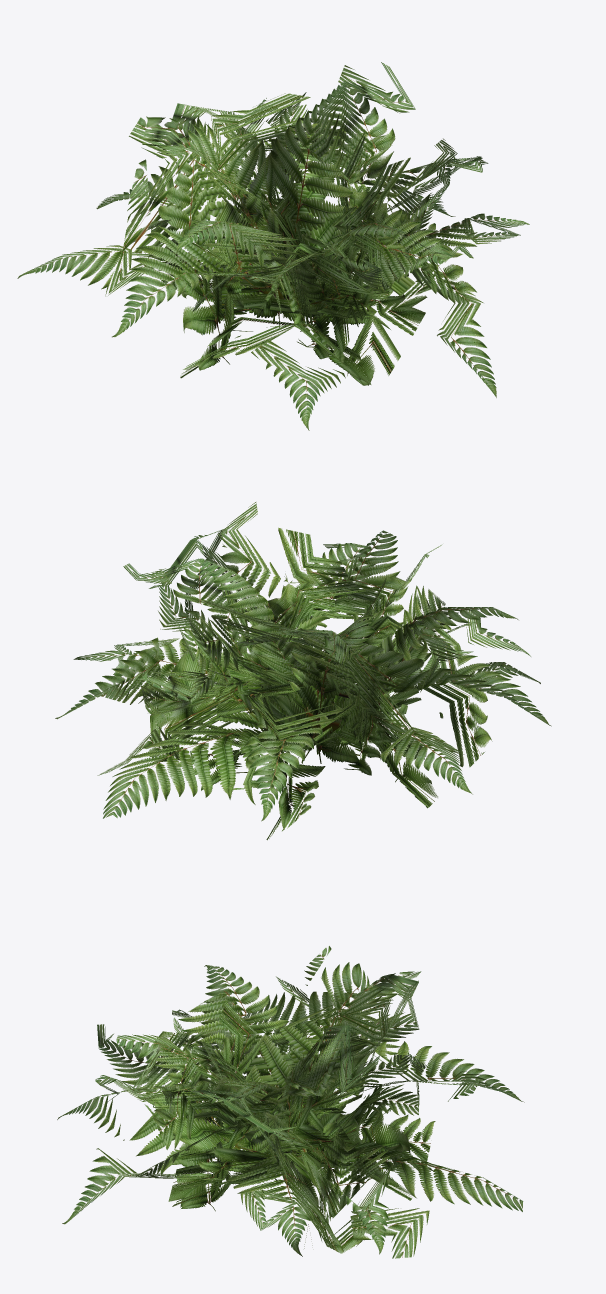
The model's file is kapradi_4.glb.
3 views of the same model, one above another, from view 1: azimuth 30°, elevation 25°; view 2: azimuth 150°, elevation 25°; view 3: azimuth 270°, elevation 25° (orthographic). The views are drawn at different scales.
Parts seen in each view (by area): view 1: SM_MZRa_Fern_B052_MI_MZRa_Fern_B052_0; view 2: SM_MZRa_Fern_B052_MI_MZRa_Fern_B052_0; view 3: SM_MZRa_Fern_B052_MI_MZRa_Fern_B052_0.
Part boxes in pixels (x1,y1,x2,y2): SM_MZRa_Fern_B052_MI_MZRa_Fern_B052_0: [17, 62, 529, 430]; SM_MZRa_Fern_B052_MI_MZRa_Fern_B052_0: [55, 502, 551, 840]; SM_MZRa_Fern_B052_MI_MZRa_Fern_B052_0: [57, 946, 524, 1258].
Bounding box in the file's own units: 2.77 × 1.41 × 2.67.
1 material, 1 textured.
